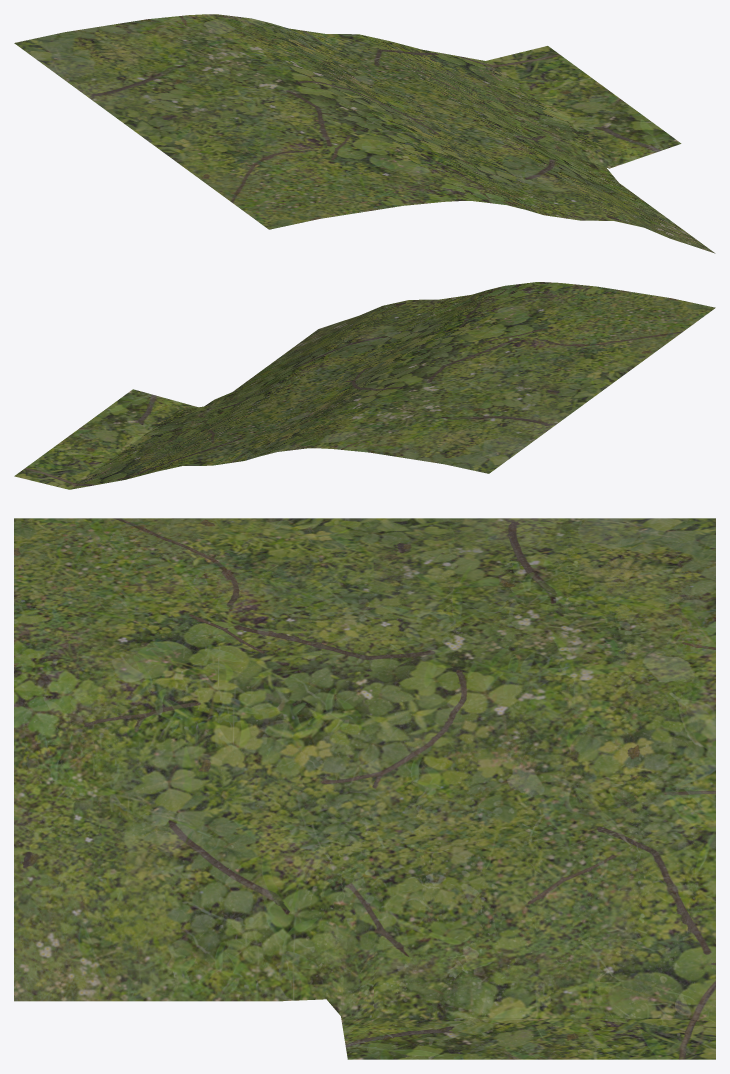
File: GrassSlopeStairsRight.fbx
The picture shows the model from 3 angles, top to bottom: view 1: azimuth 30°, elevation 25°; view 2: azimuth 150°, elevation 25°; view 3: azimuth 270°, elevation 25°; orthographic projection. The views are drawn at different scales.
Parts seen in each view (by area): view 1: GrassSlopeStairs_right_done; view 2: GrassSlopeStairs_right_done; view 3: GrassSlopeStairs_right_done.
Boxes of the visible parts, <box> form: GrassSlopeStairs_right_done: <box>14,14,715,253</box>; GrassSlopeStairs_right_done: <box>14,282,715,489</box>; GrassSlopeStairs_right_done: <box>14,518,715,1059</box>.
Size of the model in its own units: 318 by 78.52 by 263.
1 material, 1 textured.
